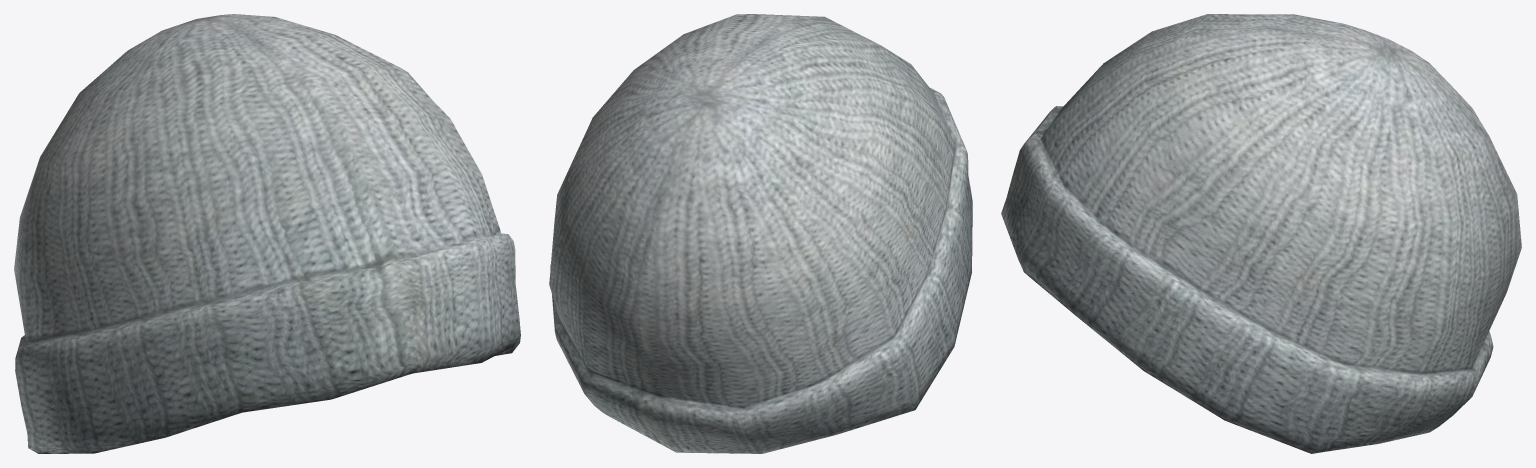
File: mindfront-knitted-hat-01.glb
3 renders of one model, left to right at view 1: azimuth 30°, elevation 25°; view 2: azimuth 150°, elevation 25°; view 3: azimuth 270°, elevation 25°, orthographic. The views are drawn at different scales.
Parts seen in each view (by area): view 1: Human.mindfront_knitted_hat_01; view 2: Human.mindfront_knitted_hat_01; view 3: Human.mindfront_knitted_hat_01.
Part boxes in pixels (<box>): Human.mindfront_knitted_hat_01: <box>14,14,520,453</box>; Human.mindfront_knitted_hat_01: <box>549,14,972,453</box>; Human.mindfront_knitted_hat_01: <box>1001,14,1521,453</box>.
Size of the model in its own units: 0.1666 by 0.1579 by 0.1981.
1 material, 1 textured.
